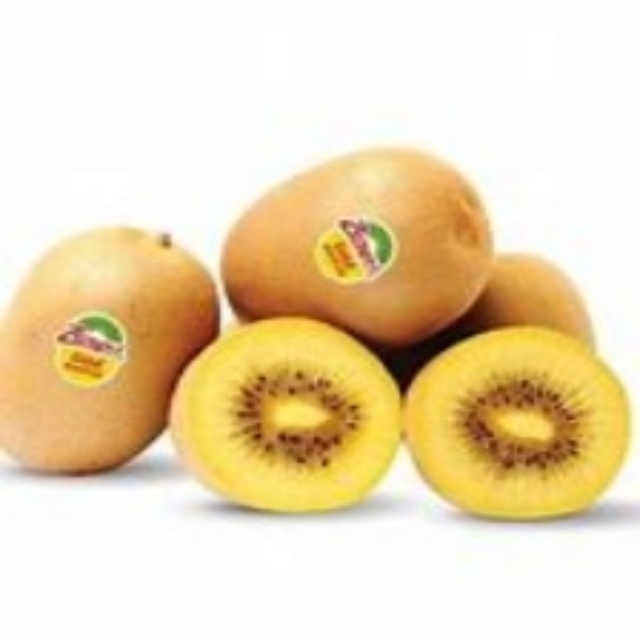kiwi: (183, 315, 634, 519), (223, 147, 489, 344), (9, 238, 235, 465)
